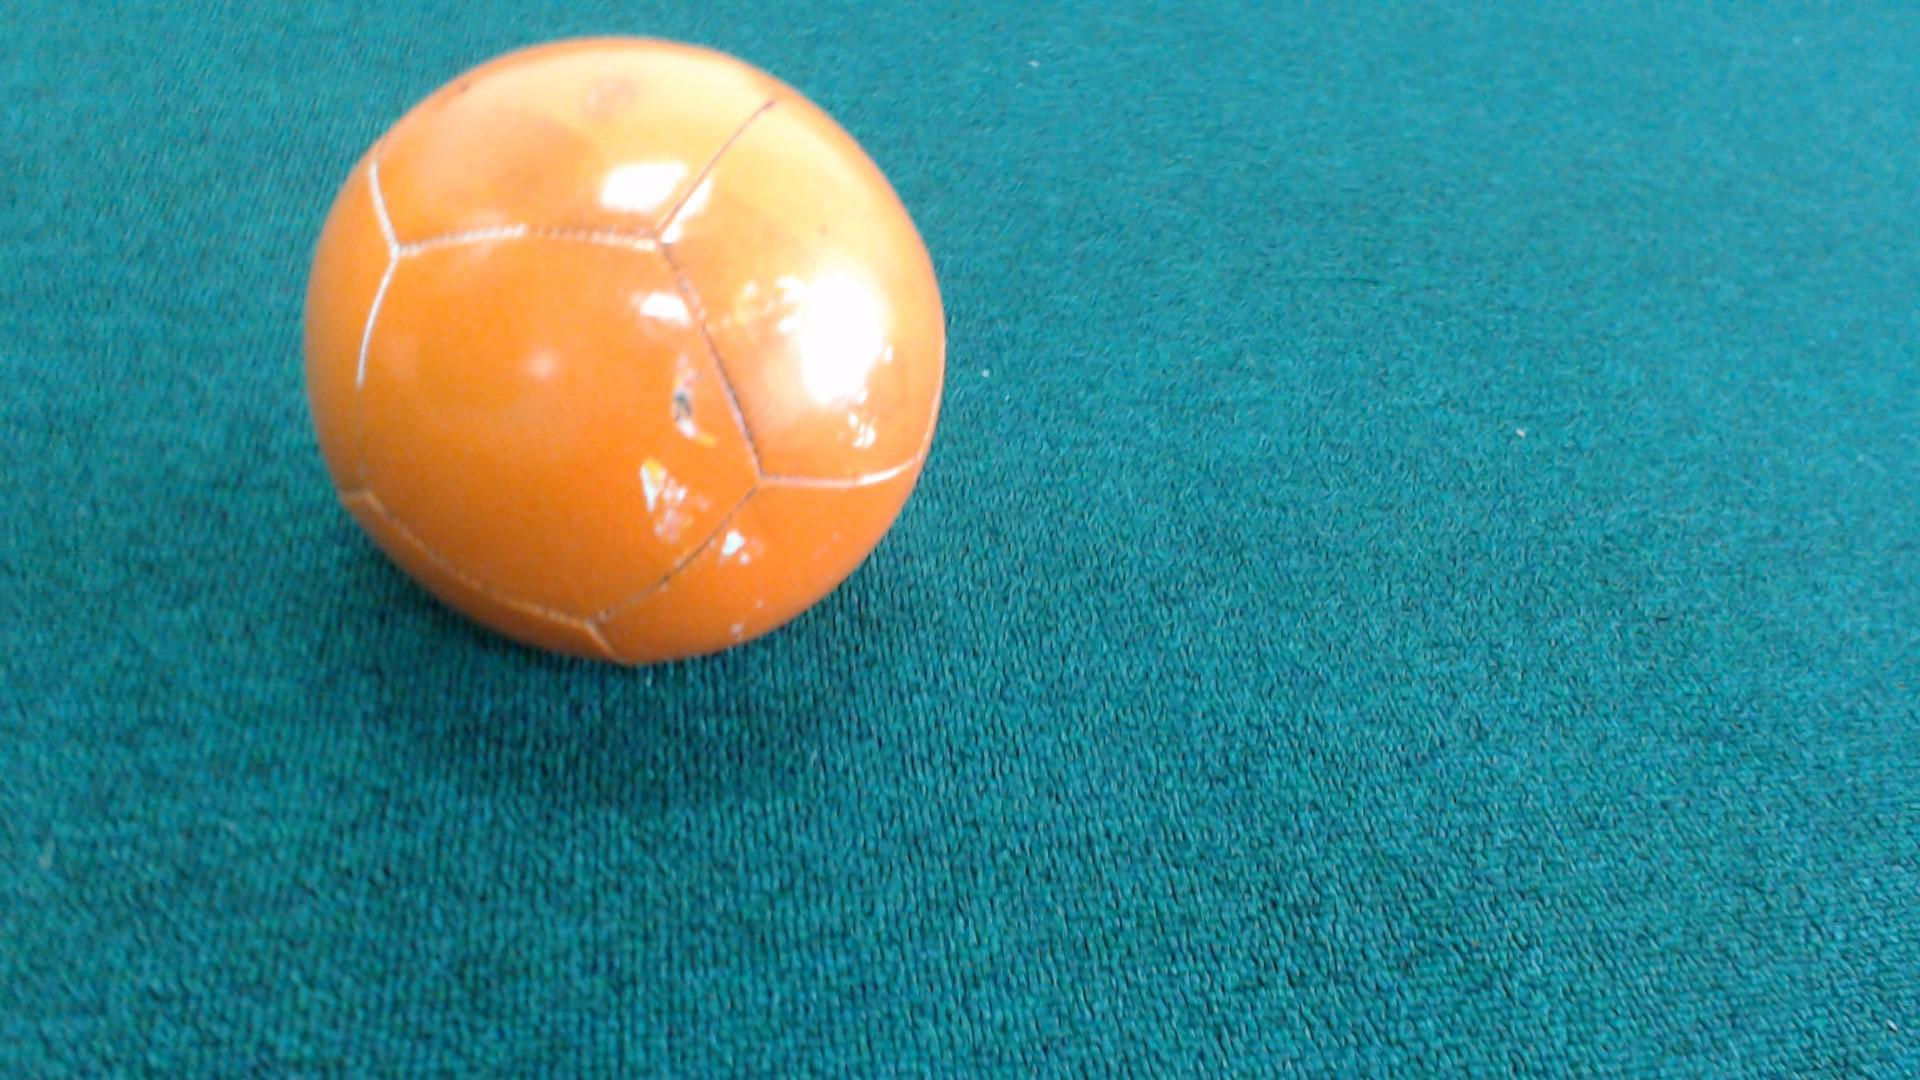bola: (276, 16, 985, 717)
